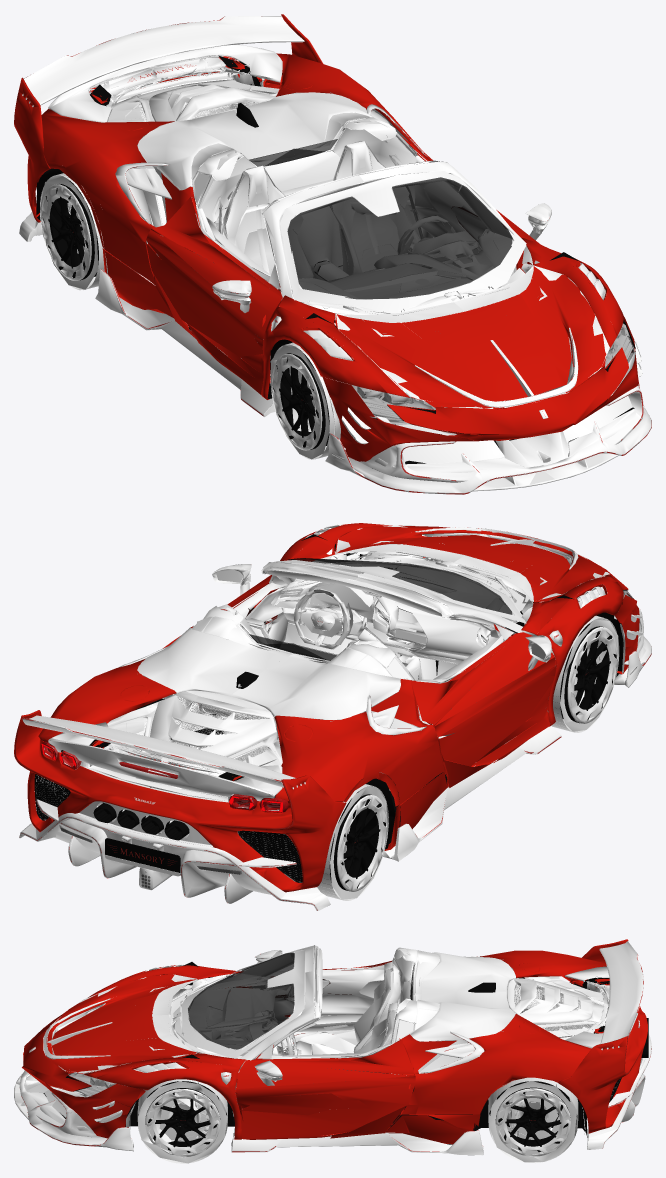
Rendered from spyder.glb.
The picture shows the model from 3 angles, top to bottom: view 1: azimuth 30°, elevation 25°; view 2: azimuth 150°, elevation 25°; view 3: azimuth 270°, elevation 25°; orthographic projection. The views are drawn at different scales.
Visible parts, largest first — view 1: _gltfNode_40_40, _gltfNode_72_72, _gltfNode_172_172, _gltfNode_60_60, _gltfNode_76_76, _gltfNode_356_356, _gltfNode_70_70, _gltfNode_295_295, _gltfNode_326_326, _gltfNode_324_324, _gltfNode_344_344, _gltfNode_52_52 (+30 smaller); view 2: _gltfNode_60_60, _gltfNode_40_40, _gltfNode_350_350, _gltfNode_76_76, _gltfNode_295_295, _gltfNode_342_342, _gltfNode_52_52, _gltfNode_72_72, _gltfNode_324_324, _gltfNode_304_304, _gltfNode_228_228, _gltfNode_56_56 (+32 smaller); view 3: _gltfNode_76_76, _gltfNode_40_40, _gltfNode_60_60, _gltfNode_72_72, _gltfNode_295_295, _gltfNode_172_172, _gltfNode_350_350, _gltfNode_324_324, _gltfNode_356_356, _gltfNode_70_70, _gltfNode_52_52, _gltfNode_354_354 (+32 smaller).
Part boxes in pixels (box(x1,y1,x2,y2)): _gltfNode_40_40: box(163, 126, 513, 325); _gltfNode_72_72: box(335, 266, 606, 408); _gltfNode_172_172: box(287, 177, 512, 298); _gltfNode_60_60: box(41, 53, 432, 284); _gltfNode_76_76: box(146, 143, 539, 394); _gltfNode_356_356: box(250, 158, 508, 298); _gltfNode_70_70: box(322, 315, 638, 461); _gltfNode_295_295: box(137, 92, 374, 190); _gltfNode_326_326: box(325, 384, 651, 494); _gltfNode_324_324: box(261, 238, 623, 399); _gltfNode_344_344: box(24, 16, 304, 105); _gltfNode_52_52: box(88, 57, 572, 424); _gltfNode_60_60: box(38, 627, 444, 806); _gltfNode_40_40: box(234, 553, 518, 773); _gltfNode_350_350: box(14, 710, 346, 892); _gltfNode_76_76: box(163, 575, 556, 787); _gltfNode_295_295: box(137, 627, 400, 719); _gltfNode_342_342: box(19, 813, 330, 910); _gltfNode_52_52: box(80, 533, 572, 837); _gltfNode_72_72: box(335, 525, 609, 601); _gltfNode_324_324: box(280, 523, 623, 726); _gltfNode_304_304: box(150, 690, 276, 764); _gltfNode_228_228: box(48, 722, 282, 801); _gltfNode_56_56: box(246, 563, 515, 727); _gltfNode_76_76: box(235, 961, 415, 1139); _gltfNode_40_40: box(196, 948, 465, 1116); _gltfNode_60_60: box(401, 950, 606, 1114); _gltfNode_72_72: box(44, 974, 196, 1073); _gltfNode_295_295: box(410, 952, 515, 1041); _gltfNode_172_172: box(188, 953, 294, 1049); _gltfNode_350_350: box(558, 939, 647, 1133); _gltfNode_324_324: box(84, 965, 245, 1139); _gltfNode_356_356: box(188, 953, 294, 1042); _gltfNode_70_70: box(22, 1011, 145, 1138); _gltfNode_52_52: box(51, 945, 609, 1103); _gltfNode_354_354: box(231, 1130, 483, 1155).
Size of the model in its own units: 2.18 by 1.14 by 4.74.
